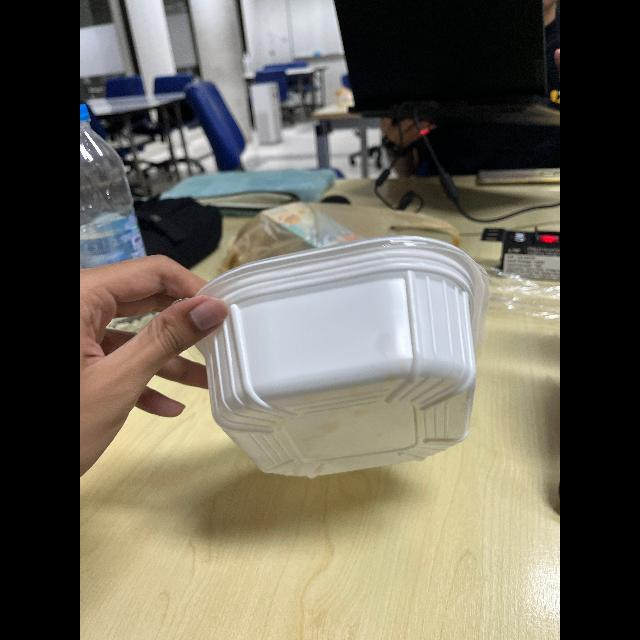plastic_box: (178, 233, 510, 479)
